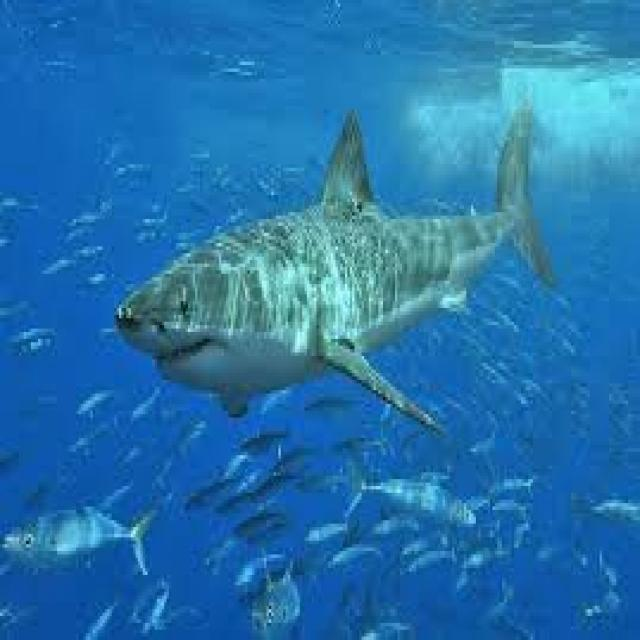shark: (114, 103, 552, 431)
